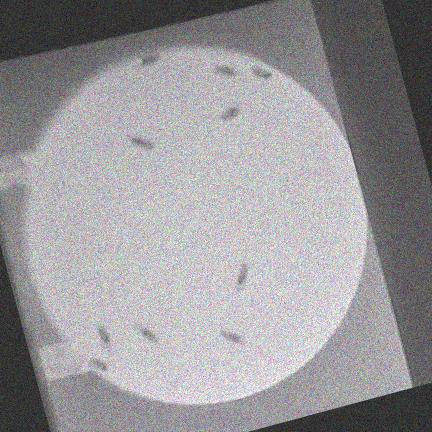fly: (138, 325, 160, 343), (130, 135, 154, 150), (236, 262, 249, 289), (97, 323, 111, 348), (221, 329, 246, 343), (138, 51, 160, 66), (221, 104, 240, 120), (213, 64, 237, 76), (88, 358, 108, 371), (252, 66, 272, 78)
